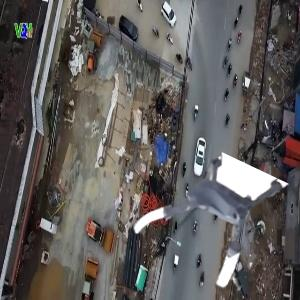drone: (139, 151, 271, 283)
